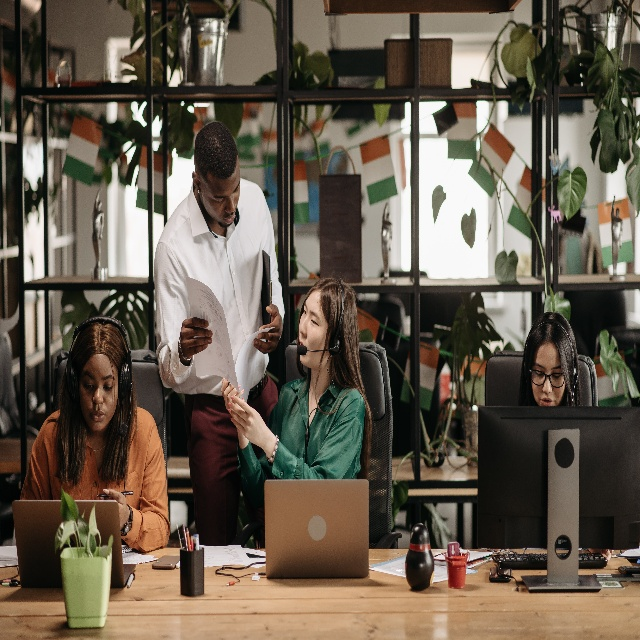Gafas: (529, 366, 565, 388)
Sin_guantes: (227, 392, 266, 451), (252, 304, 283, 356), (180, 317, 212, 359), (100, 485, 128, 526), (221, 377, 245, 423)
